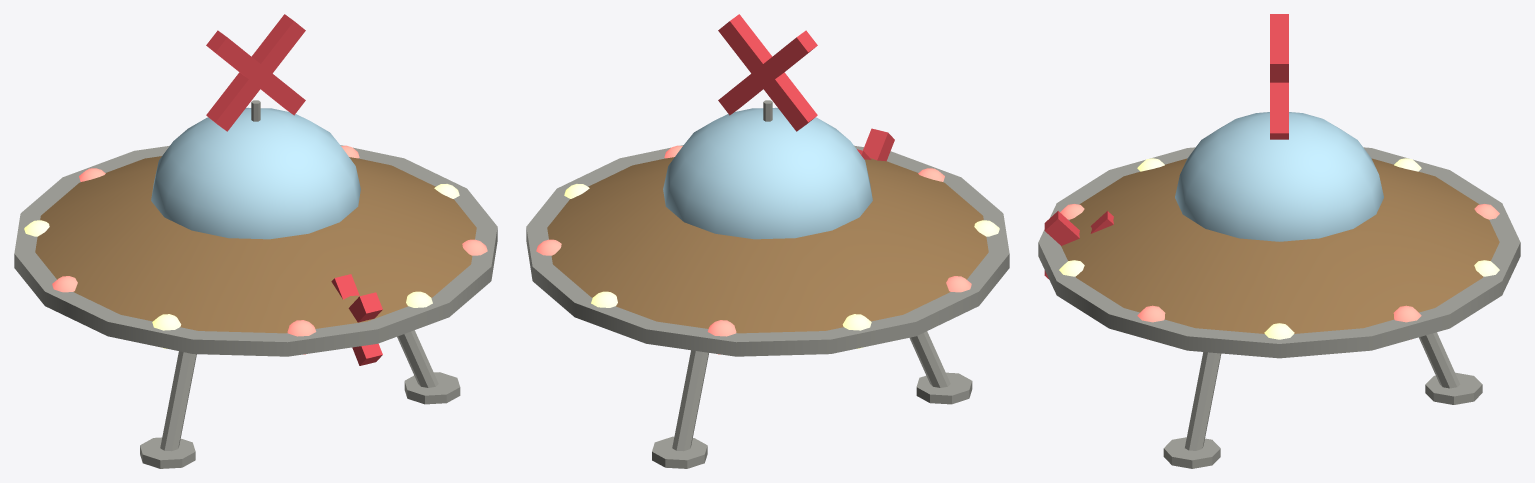
Rendered from Nave.glb.
3 views of the same model, side by side, from view 1: azimuth 30°, elevation 25°; view 2: azimuth 150°, elevation 25°; view 3: azimuth 270°, elevation 25° (orthographic).
Parts seen in each view (by area): view 1: Nave; view 2: Nave; view 3: Nave.
Boxes of the visible parts, x1,y1,x2,y2 form: Nave: (14, 14, 497, 468); Nave: (526, 14, 1009, 468); Nave: (1038, 14, 1520, 468).
Size of the model in its own units: 1.52 by 1.27 by 1.52.
